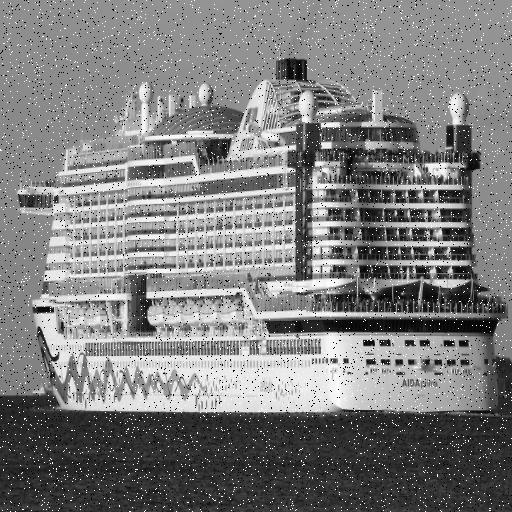cruises: (14, 48, 508, 422)
